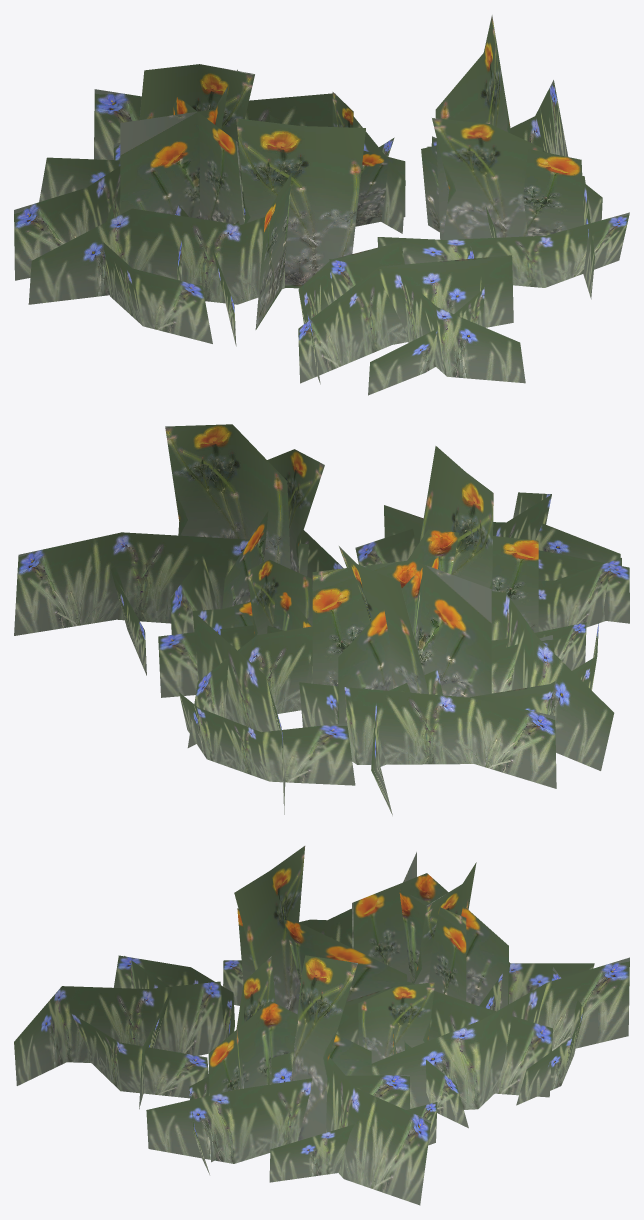
File: proc_meadowpoppy_01.FBX
The picture shows the model from 3 angles, top to bottom: view 1: azimuth 30°, elevation 25°; view 2: azimuth 150°, elevation 25°; view 3: azimuth 270°, elevation 25°; orthographic projection. The views are drawn at different scales.
Visible parts, largest first — view 1: proc_meadowpoppy_01; view 2: proc_meadowpoppy_01; view 3: proc_meadowpoppy_01.
Boxes of the visible parts, x1=… form: proc_meadowpoppy_01: x1=14, y1=15, x2=629, y2=395; proc_meadowpoppy_01: x1=14, y1=424, x2=629, y2=815; proc_meadowpoppy_01: x1=14, y1=846, x2=629, y2=1205.
Size of the model in its own units: 1.96 by 1.99 by 0.6841.
1 material, 1 textured.
